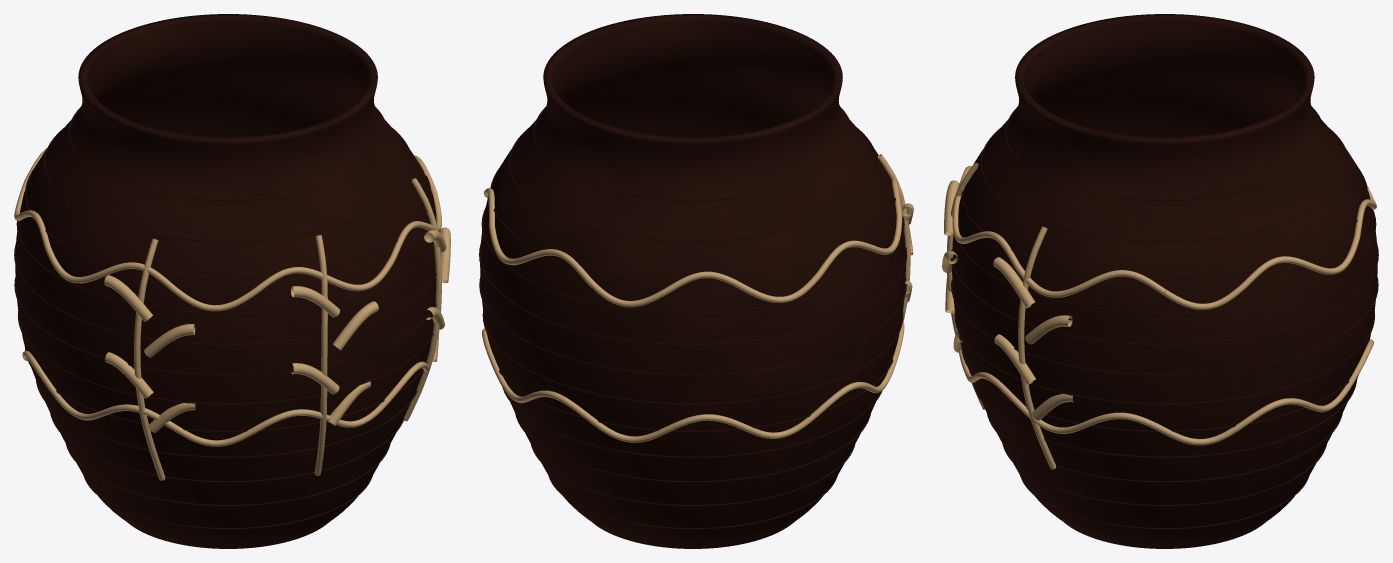
The model's file is bcm-1121.glb.
3 views of the same model, side by side, from view 1: azimuth 30°, elevation 25°; view 2: azimuth 150°, elevation 25°; view 3: azimuth 270°, elevation 25° (orthographic).
Visible parts, largest first — view 1: Continuous hollow vessel with formed lip, Finger-drawn glaze motif (approximate); view 2: Continuous hollow vessel with formed lip, Finger-drawn glaze motif (approximate); view 3: Continuous hollow vessel with formed lip, Finger-drawn glaze motif (approximate).
Boxes of the visible parts, x1,y1,x2,y2 form: Continuous hollow vessel with formed lip: (14, 14, 439, 548); Finger-drawn glaze motif (approximate): (14, 148, 450, 480); Continuous hollow vessel with formed lip: (479, 14, 906, 548); Finger-drawn glaze motif (approximate): (482, 154, 913, 442); Continuous hollow vessel with formed lip: (951, 14, 1378, 548); Finger-drawn glaze motif (approximate): (942, 162, 1376, 469).
Bounding box in the file's own units: 0.9147 × 1 × 0.9332.
